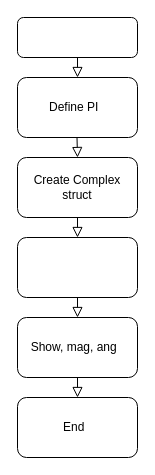
The diagram is 155 pixels wide and 475 high, and some of its shapes have lost their labels. The centre of each missing label's shape, as x and y in pixels:
main(): create object: (77,267)
Start: (77,37)
